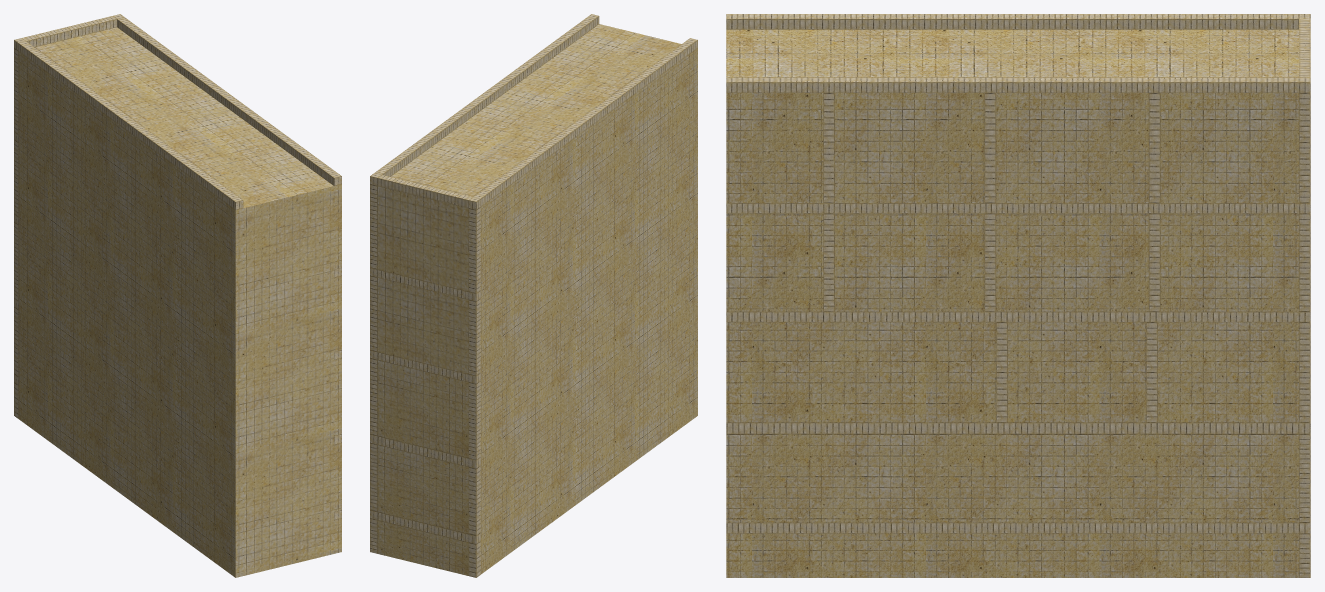
The model's file is tutorial_structure_base_pt03.dae.
3 renders of one model, left to right at view 1: azimuth 30°, elevation 25°; view 2: azimuth 150°, elevation 25°; view 3: azimuth 270°, elevation 25°, orthographic. The views are drawn at different scales.
Visible parts, largest first — view 1: tutorial_structure_base_pt03; view 2: tutorial_structure_base_pt03; view 3: tutorial_structure_base_pt03.
Part boxes in pixels (left/top/right/bottom): tutorial_structure_base_pt03: left=14, top=14, right=341, bottom=577; tutorial_structure_base_pt03: left=370, top=14, right=697, bottom=577; tutorial_structure_base_pt03: left=726, top=14, right=1310, bottom=577.
Bounding box in the file's own units: 10.19 × 36.8 × 34.44.
2 materials, 2 textured.
